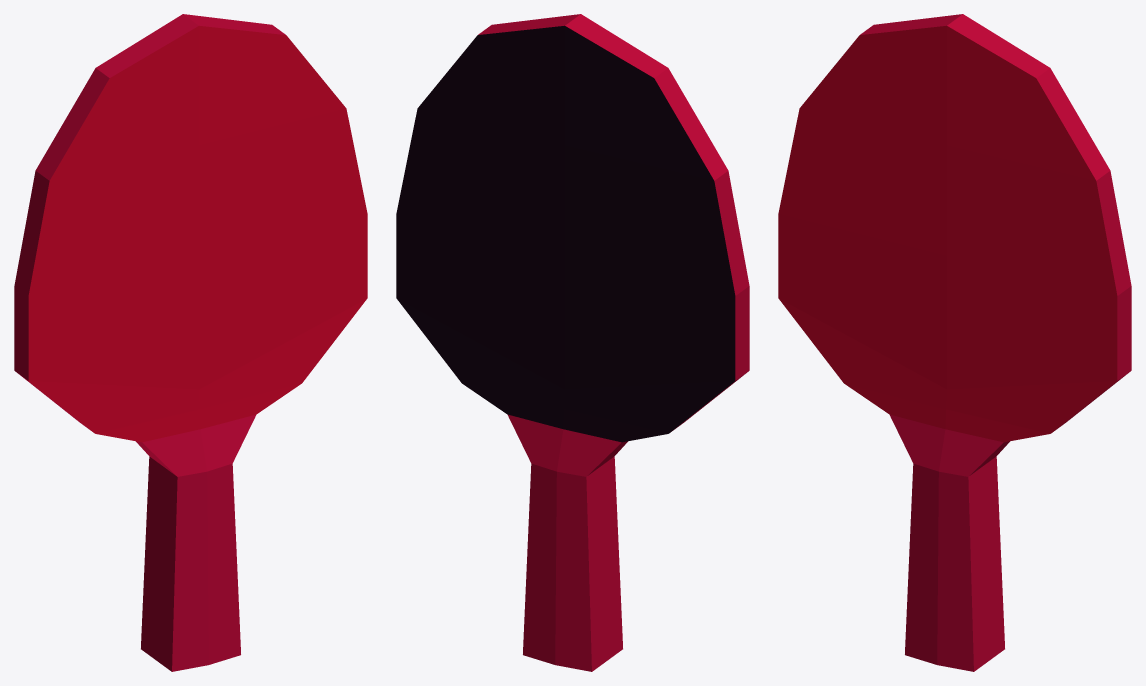
File: TableTennisPaddle_01.fbx
3 renders of one model, left to right at view 1: azimuth 30°, elevation 25°; view 2: azimuth 150°, elevation 25°; view 3: azimuth 330°, elevation 25°, orthographic.
Parts seen in each view (by area): view 1: TableTennisPaddle_01; view 2: TableTennisPaddle_01; view 3: TableTennisPaddle_01.
Part boxes in pixels (x1,y1,x2,y2): TableTennisPaddle_01: [14, 14, 367, 671]; TableTennisPaddle_01: [396, 14, 749, 671]; TableTennisPaddle_01: [778, 14, 1131, 671].
Bounding box in the file's own units: 2.6 × 4.63 × 0.4715.
